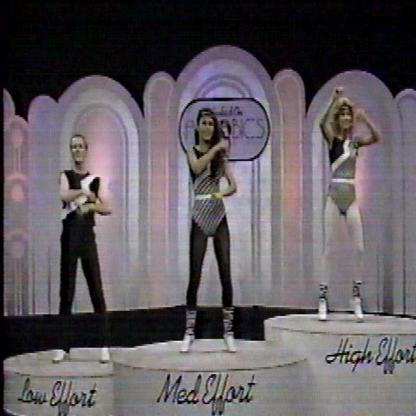face: (72, 138, 86, 164), (201, 117, 215, 142), (340, 108, 353, 131)
